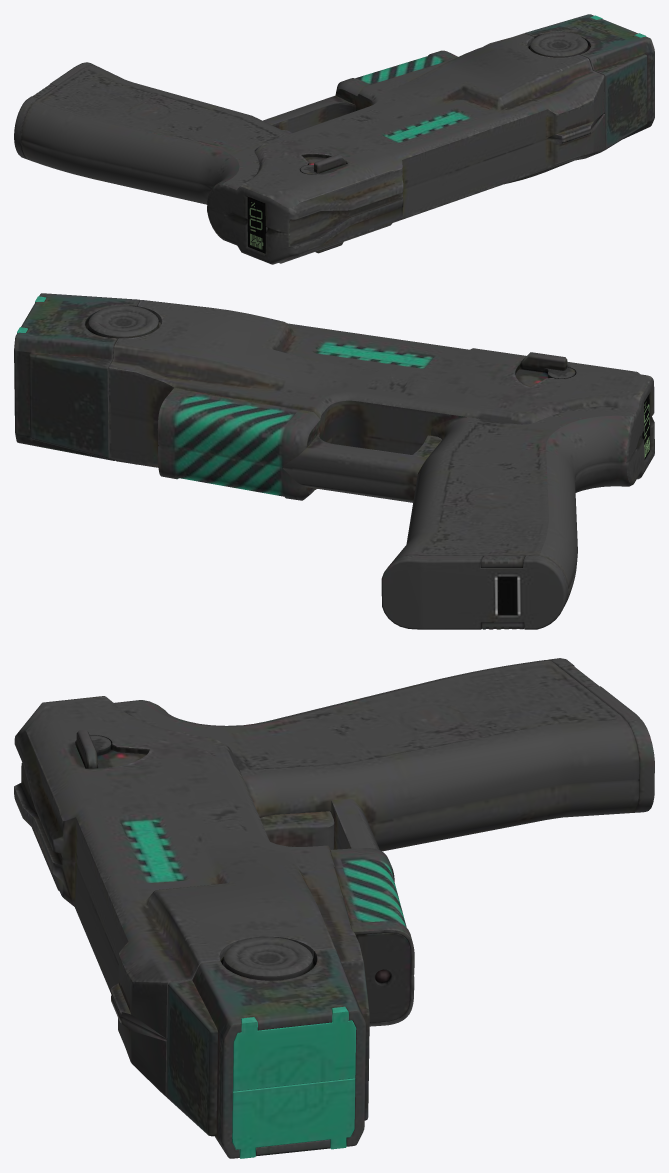
Rendered from w_taser.glb.
The picture shows the model from 3 angles, top to bottom: view 1: azimuth 30°, elevation 25°; view 2: azimuth 150°, elevation 25°; view 3: azimuth 270°, elevation 25°; orthographic projection. The views are drawn at different scales.
Visible parts, largest first — view 1: w_taser; view 2: w_taser; view 3: w_taser.
Boxes of the visible parts, x1,y1,x2,y2 form: w_taser: (14,14,654,264); w_taser: (14,293,654,629); w_taser: (14,658,654,1158).
Size of the model in its own units: 0.3288 by 0.0592 by 0.221.
2 materials, 2 textured.
